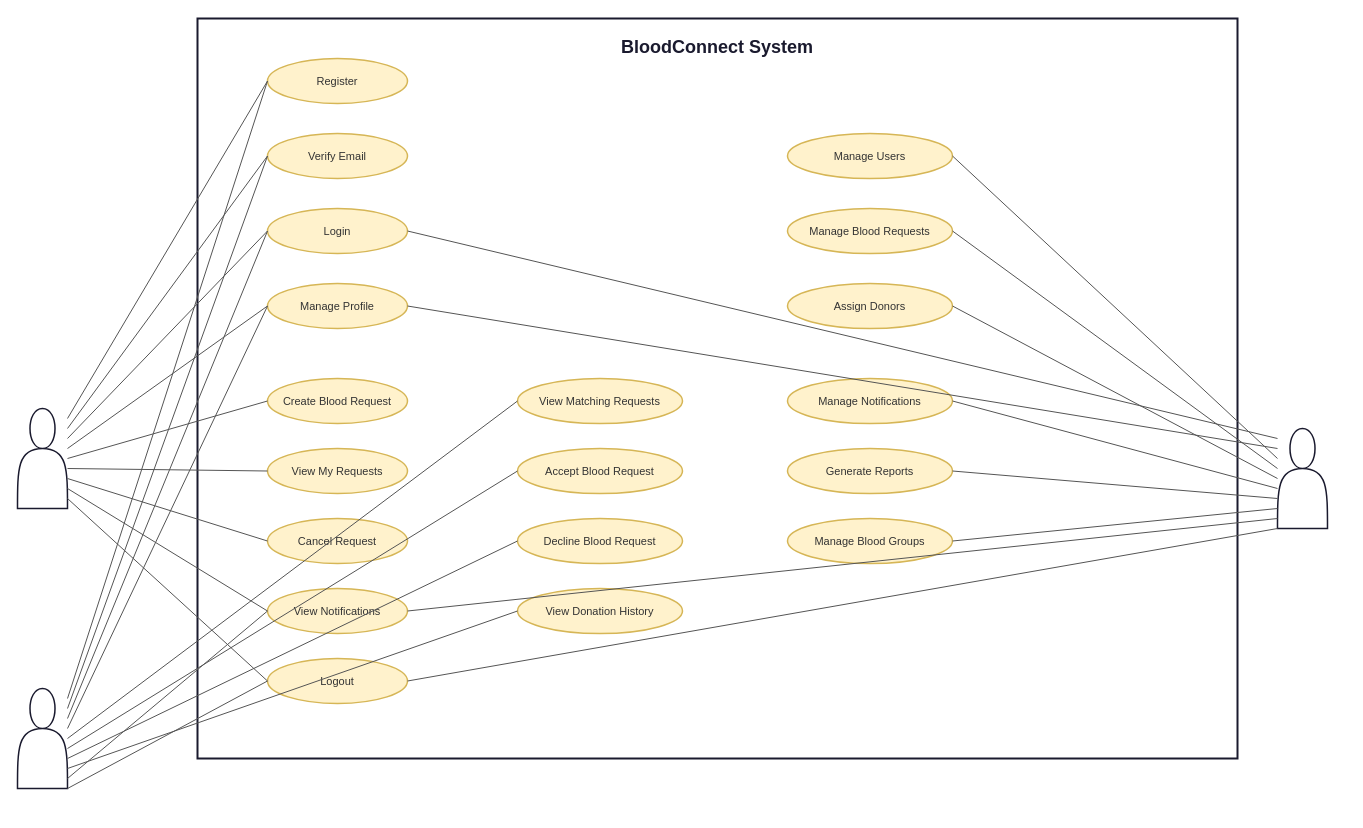
The diagram is 1363 pixels wide and 828 high, and some of its shapes have lost their labels. Each missing label, with the centre of its shape:
Administrator: the point at 1302,478
Donor: the point at 42,738
Patient: the point at 42,458
